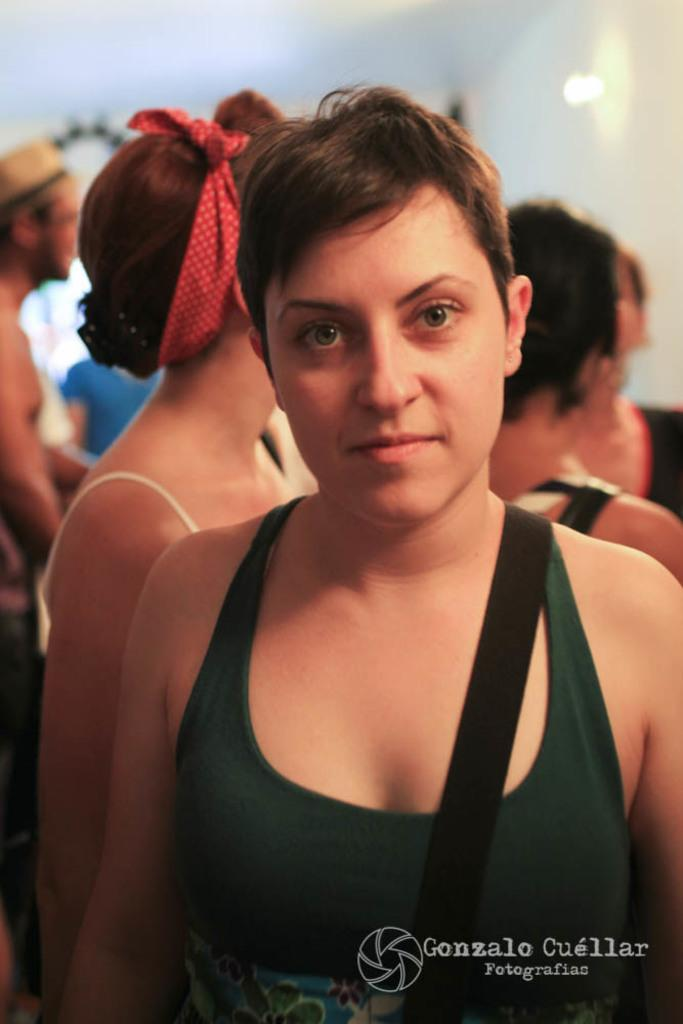Sem Máscara: (265, 179, 505, 515)
